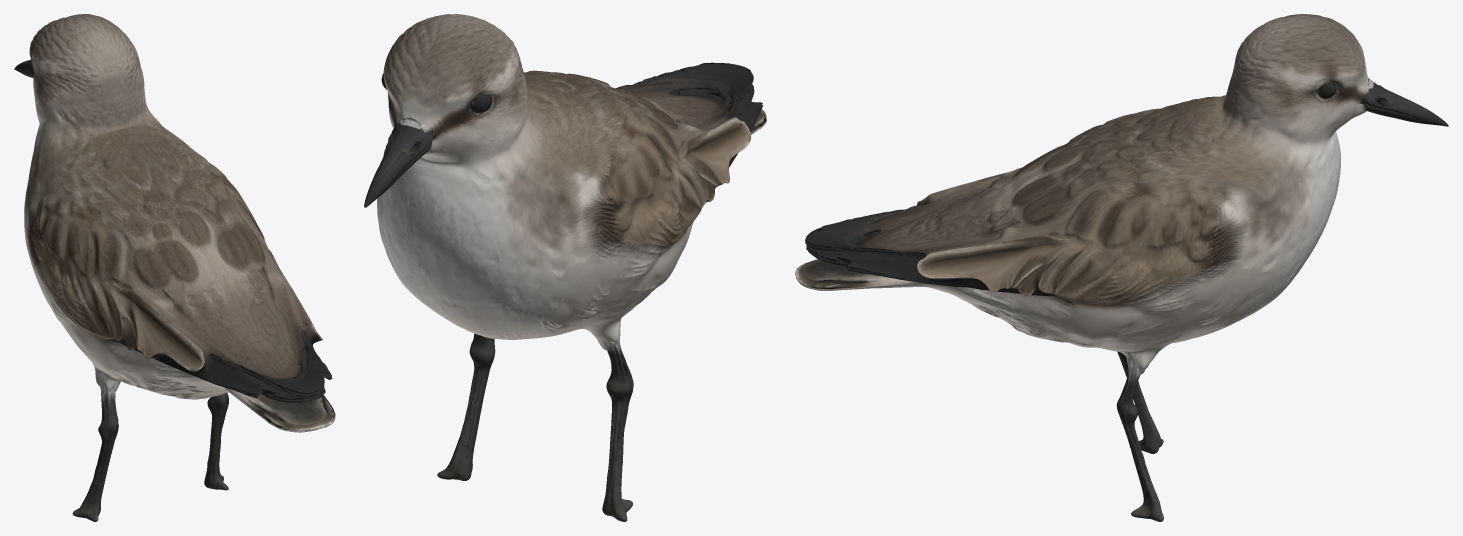
File: niao.glb
3 views of the same model, side by side, from view 1: azimuth 30°, elevation 25°; view 2: azimuth 150°, elevation 25°; view 3: azimuth 270°, elevation 25° (orthographic). The views are drawn at different scales.
Visible parts, largest first — view 1: tripo_node_ae21ec67-4a3a-4147-bfd1-e332d1e75c0b; view 2: tripo_node_ae21ec67-4a3a-4147-bfd1-e332d1e75c0b; view 3: tripo_node_ae21ec67-4a3a-4147-bfd1-e332d1e75c0b.
Part boxes in pixels (bbox=[...]): tripo_node_ae21ec67-4a3a-4147-bfd1-e332d1e75c0b: bbox=[14, 14, 335, 521]; tripo_node_ae21ec67-4a3a-4147-bfd1-e332d1e75c0b: bbox=[364, 14, 766, 521]; tripo_node_ae21ec67-4a3a-4147-bfd1-e332d1e75c0b: bbox=[795, 14, 1448, 521].
Size of the model in its own units: 0.3698 by 0.7826 by 1.
Materials: 1 (1 with a texture image).
